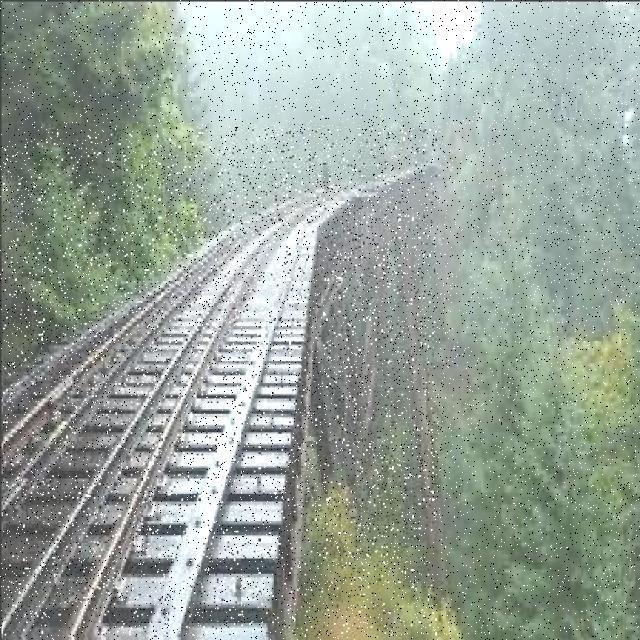rail: (2, 129, 435, 635)
